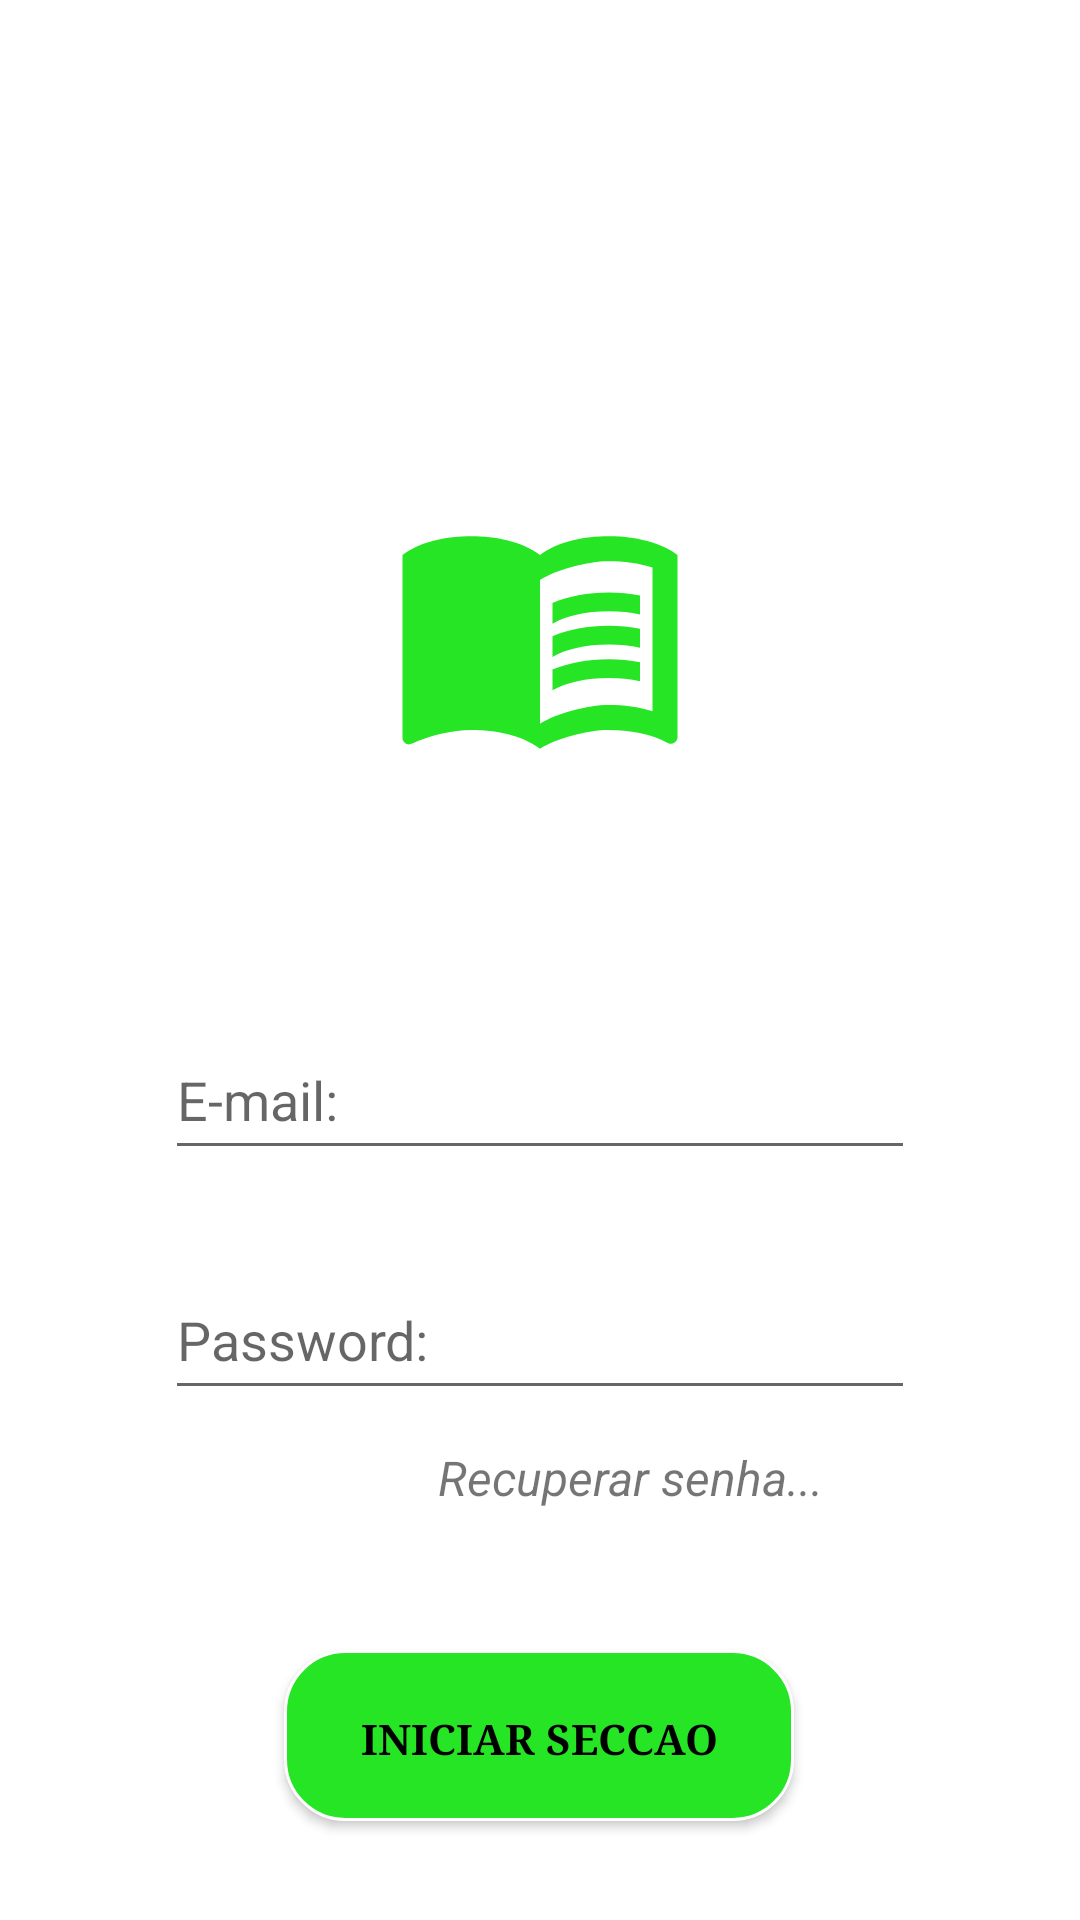

Named icons in this screenshot (1080px×1920px) and their bounding boxes, (x1, y1, x2, y2):
book: (402, 536, 678, 749)
